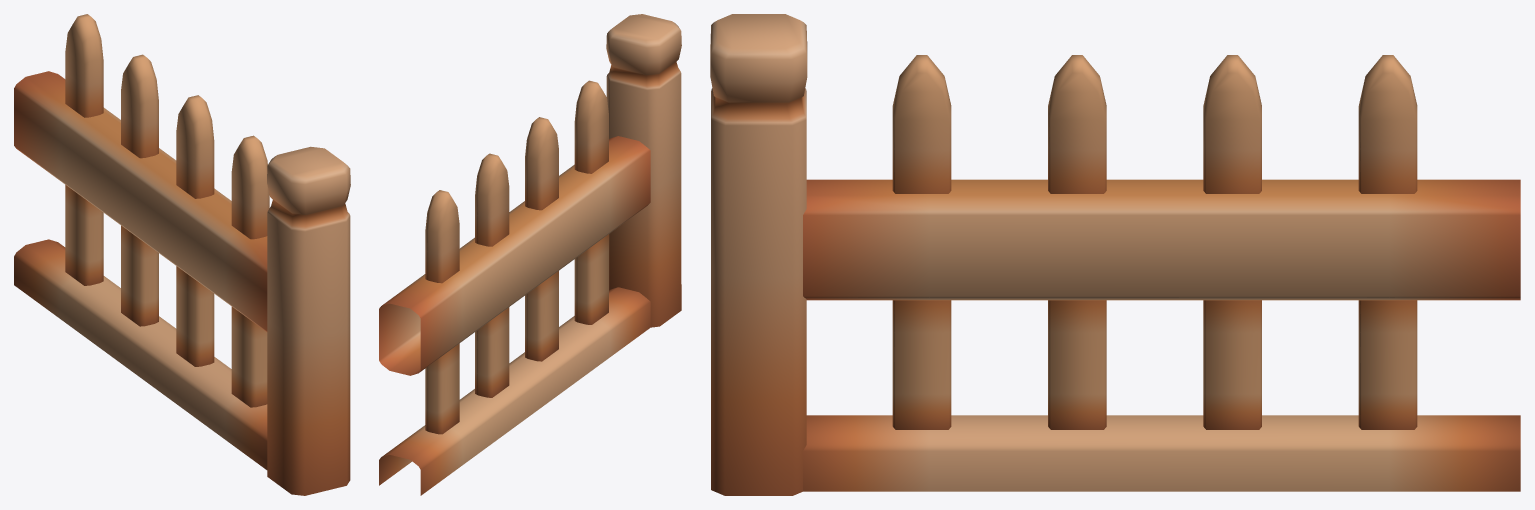
The model's file is BuitenHek_M.fbx.
The picture shows the model from 3 angles, left to right: view 1: azimuth 30°, elevation 25°; view 2: azimuth 150°, elevation 25°; view 3: azimuth 270°, elevation 25°; orthographic projection. The views are drawn at different scales.
Visible parts, largest first — view 1: Hekje; view 2: Hekje; view 3: Hekje.
Boxes of the visible parts, x1=… form: Hekje: x1=14, y1=14, x2=350, y2=495; Hekje: x1=379, y1=14, x2=681, y2=495; Hekje: x1=710, y1=14, x2=1520, y2=495.
Bounding box in the file's own units: 0.2423 × 1.22 × 2.02.
